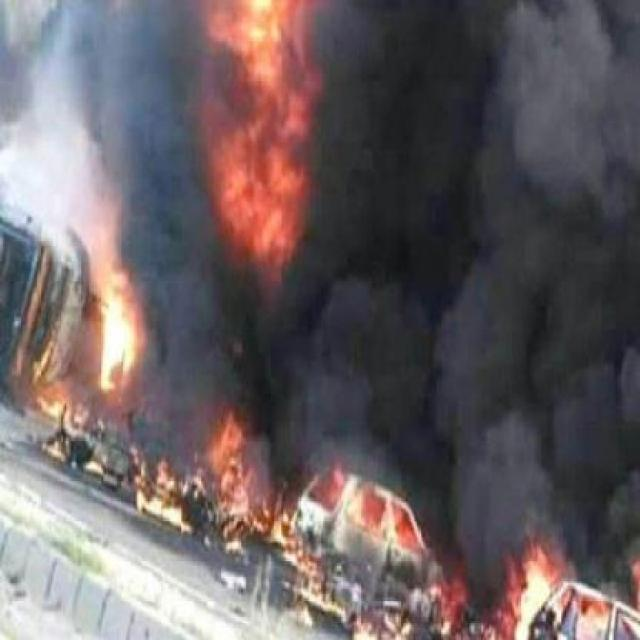Fire: (192, 411, 640, 633), (174, 0, 318, 308), (68, 276, 154, 414)
Smoke: (323, 0, 623, 543)
